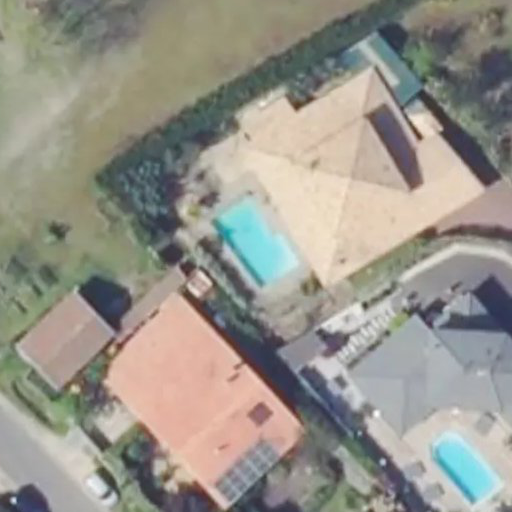pool: (210, 219, 301, 260)
